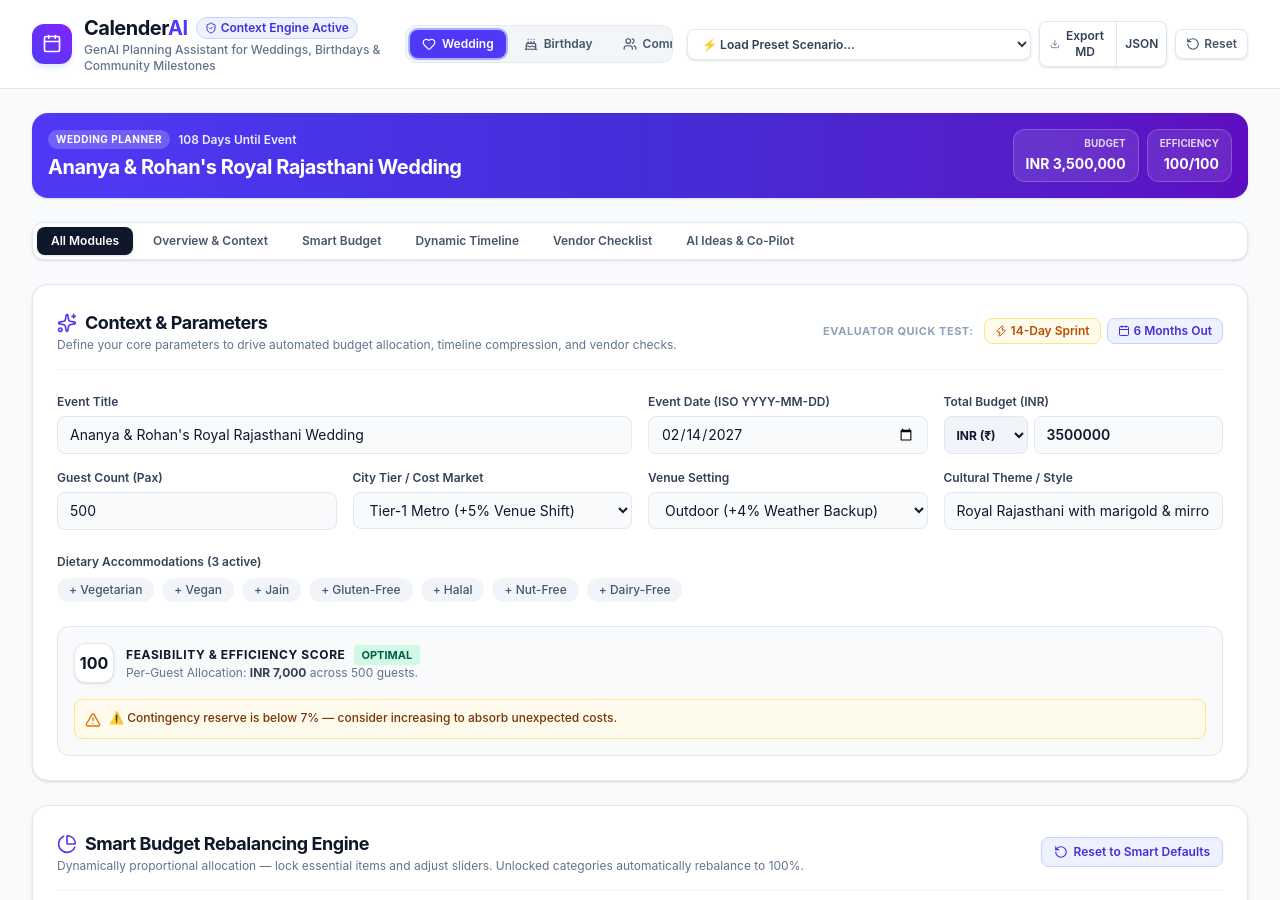
Scenario: App Integration & WCAG 2.1 AA Accessibility Tests › allows loading presets from evaluator dropdown
Select Birthday Preset (index 1)
Select "🎂 Superhero Birthday Bash (INR 75K, 40 guests)" in the dropdown named "load preset scenario" at coordinates (859, 44), box x1=687 y1=28 x2=1031 y2=60
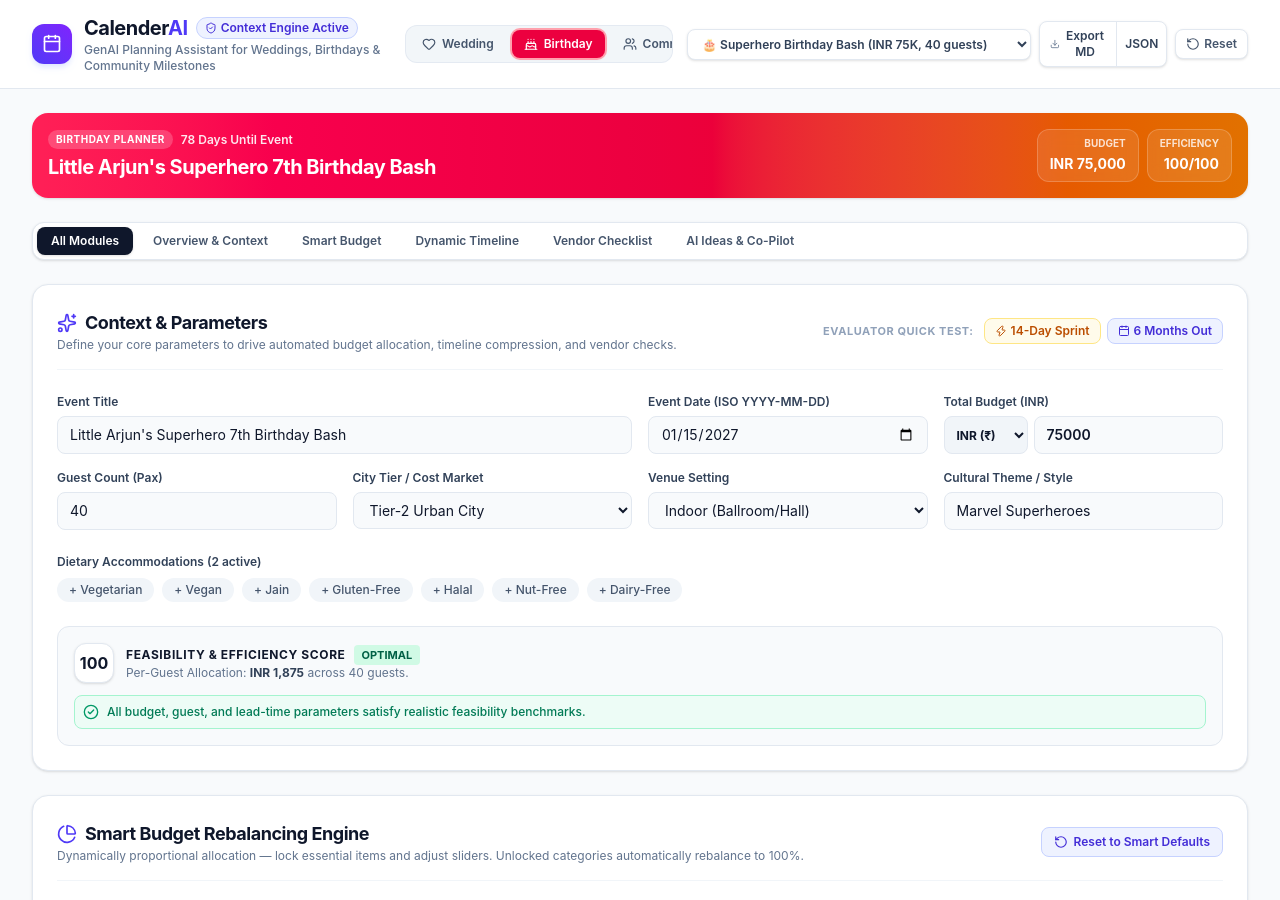
Now the text "BIRTHDAY PLANNER" is shown, box x1=48 y1=130 x2=173 y2=149
